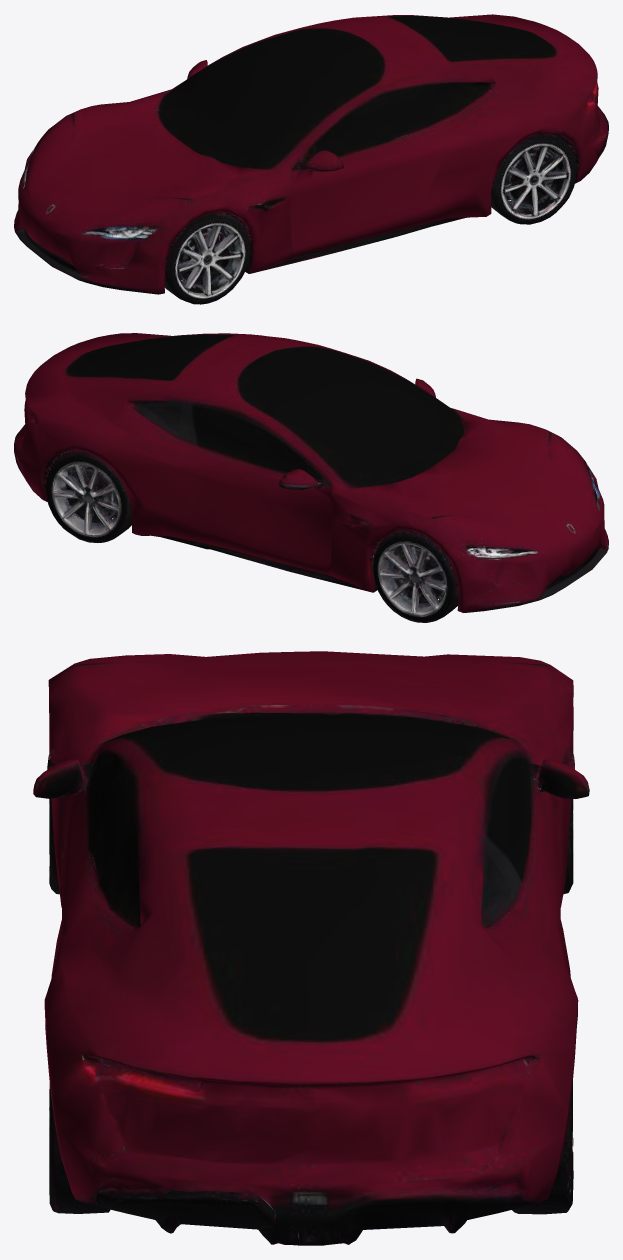
The model's file is sports.glb.
3 renders of one model, top to bottom at view 1: azimuth 30°, elevation 25°; view 2: azimuth 150°, elevation 25°; view 3: azimuth 270°, elevation 25°, orthographic. The views are drawn at different scales.
Visible parts, largest first — view 1: Mesh_0; view 2: Mesh_0; view 3: Mesh_0.
Boxes of the visible parts, bbox=[...] form: Mesh_0: bbox=[14, 14, 608, 304]; Mesh_0: bbox=[14, 333, 608, 622]; Mesh_0: bbox=[33, 651, 589, 1245].
Bounding box in the file's own units: 1.9 × 0.5304 × 0.8447.
1 material, 1 textured.
